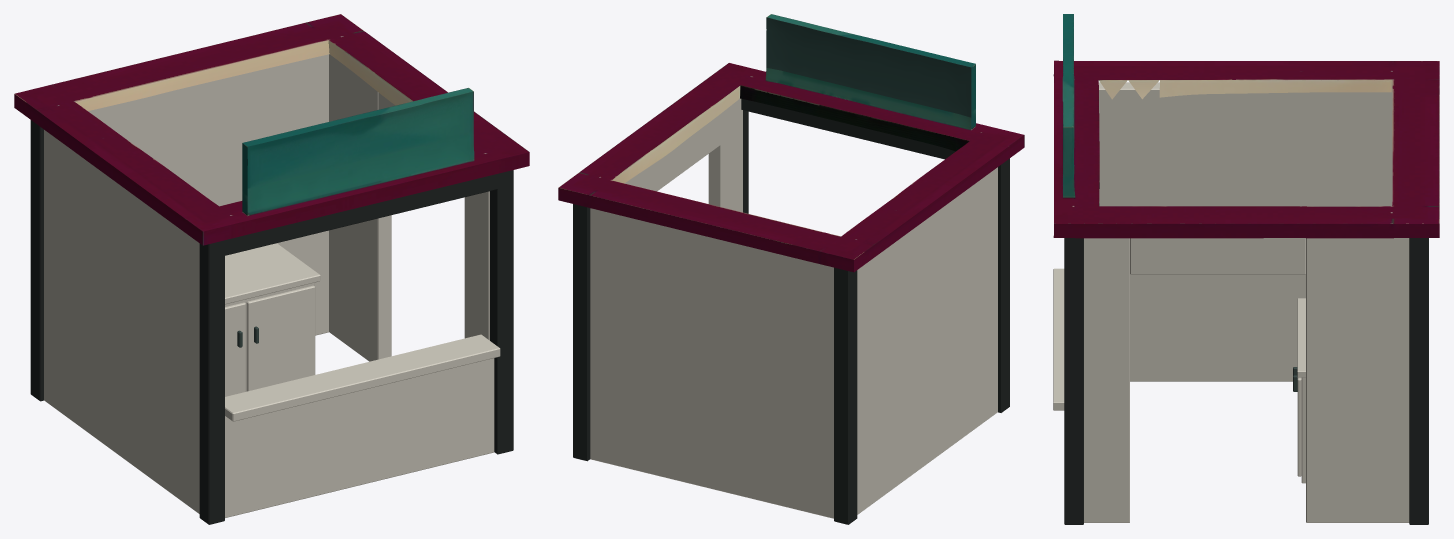
The model's file is box-office-DUccnAc0.glb.
The picture shows the model from 3 angles, left to right: view 1: azimuth 30°, elevation 25°; view 2: azimuth 150°, elevation 25°; view 3: azimuth 270°, elevation 25°; orthographic projection. The views are drawn at different scales.
Parts seen in each view (by area): view 1: Mesh_0, GEO-left booth wall, GEO-front service wall, GEO-back booth wall, GEO-door rear pier, GEO-service counter, GEO-booth post, GEO-cabinet door.001, GEO-booth post.002, GEO-service header, GEO-booth post.001, GEO-ticket cabinet top (+2 smaller); view 2: GEO-back booth wall, Mesh_0, GEO-left booth wall, GEO-booth post.001, GEO-booth post.003, GEO-door front pier, GEO-booth post, GEO-service header, GEO-door lintel, GEO-booth post.002; view 3: GEO-left booth wall, Mesh_0, GEO-door rear pier, GEO-door front pier, GEO-door lintel, GEO-booth post.003, GEO-booth post.002, GEO-service counter, GEO-ticket cabinet top, GEO-ticket cabinet case, GEO-cabinet door.001.
Part boxes in pixels (left/top/right/bottom): Mesh_0: left=14, top=14, right=529, bottom=245; GEO-left booth wall: left=44, top=130, right=199, bottom=513; GEO-front service wall: left=225, top=358, right=494, bottom=517; GEO-back booth wall: left=88, top=54, right=328, bottom=335; GEO-door rear pier: left=329, top=54, right=391, bottom=361; GEO-service counter: left=225, top=334, right=500, bottom=421; GEO-booth post: left=199, top=240, right=224, bottom=524; GEO-cabinet door.001: left=246, top=285, right=315, bottom=391; GEO-booth post.002: left=490, top=170, right=513, bottom=454; GEO-service header: left=199, top=170, right=513, bottom=258; GEO-booth post.001: left=30, top=120, right=43, bottom=401; GEO-ticket cabinet top: left=225, top=243, right=320, bottom=304; GEO-back booth wall: left=590, top=208, right=833, bottom=518; Mesh_0: left=558, top=14, right=1024, bottom=272; GEO-left booth wall: left=857, top=167, right=997, bottom=514; GEO-booth post.001: left=834, top=267, right=857, bottom=524; GEO-booth post.003: left=573, top=204, right=590, bottom=461; GEO-door front pier: left=708, top=98, right=742, bottom=212; GEO-booth post: left=998, top=158, right=1009, bottom=412; GEO-service header: left=741, top=99, right=1009, bottom=172; GEO-door lintel: left=642, top=114, right=720, bottom=191; GEO-booth post.002: left=743, top=110, right=748, bottom=213; GEO-left booth wall: left=1098, top=82, right=1392, bottom=381; Mesh_0: left=1053, top=14, right=1439, bottom=238; GEO-door rear pier: left=1306, top=238, right=1409, bottom=522; GEO-door front pier: left=1084, top=238, right=1129, bottom=522; GEO-door lintel: left=1130, top=238, right=1305, bottom=274; GEO-booth post.003: left=1409, top=238, right=1428, bottom=524; GEO-booth post.002: left=1064, top=238, right=1083, bottom=524; GEO-service counter: left=1053, top=268, right=1064, bottom=410; GEO-ticket cabinet top: left=1297, top=298, right=1305, bottom=377; GEO-ticket cabinet case: left=1301, top=377, right=1305, bottom=483; GEO-cabinet door.001: left=1297, top=377, right=1301, bottom=476.
Bounding box in the file's own units: 1.76 × 1.9 × 1.76.
5 materials, 1 textured.
